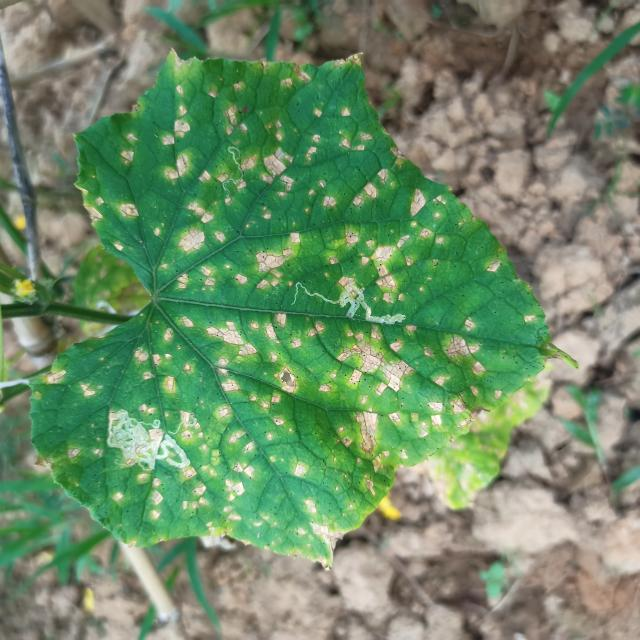disease_cucumber: (58, 66, 504, 549)
